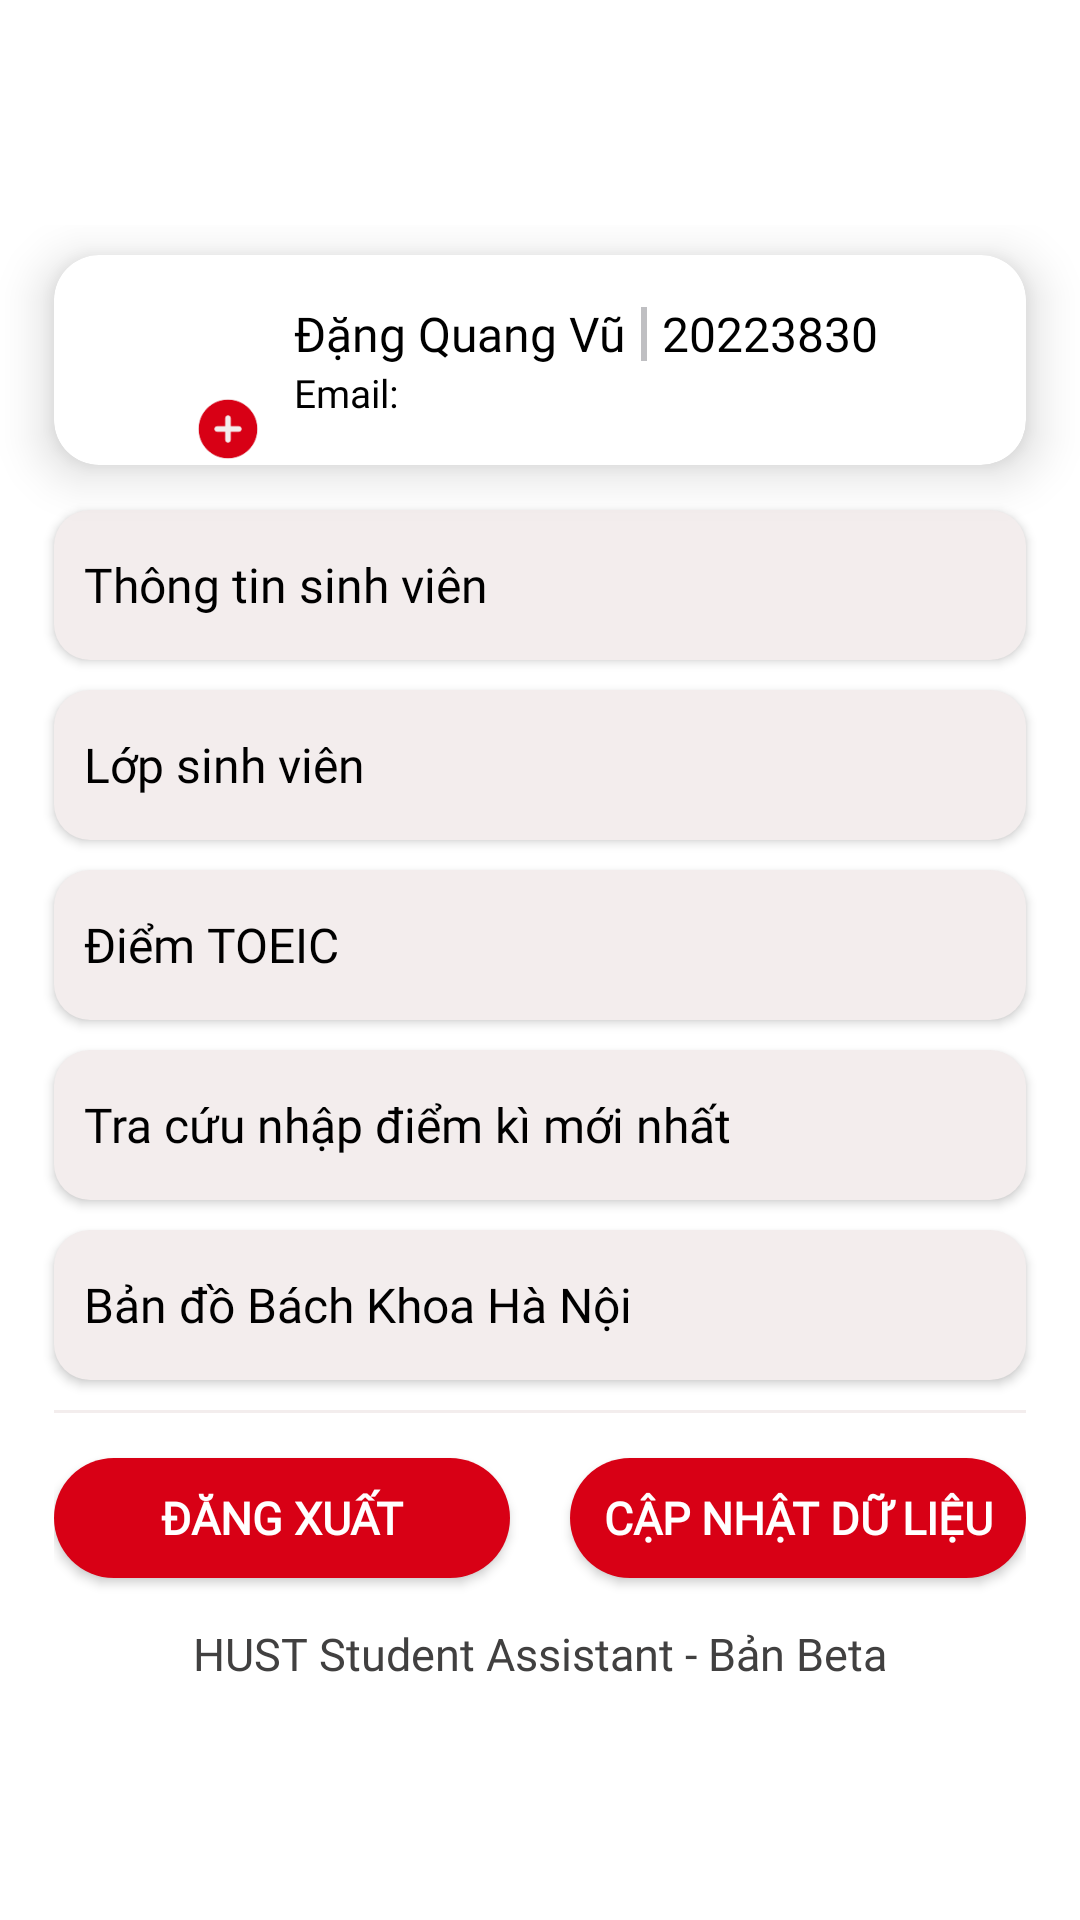

Icons on this 1080x1920 Android screen, each with the point to tap as [x,y]:
changeavt: [228,429]
